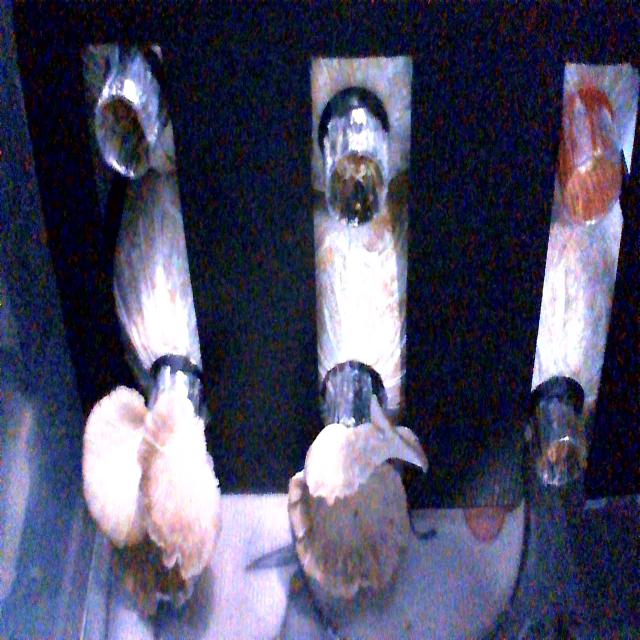big: (78, 360, 224, 601), (284, 382, 439, 602)
nfound: (564, 138, 636, 237), (92, 84, 164, 174), (322, 130, 385, 228), (534, 396, 591, 503)
